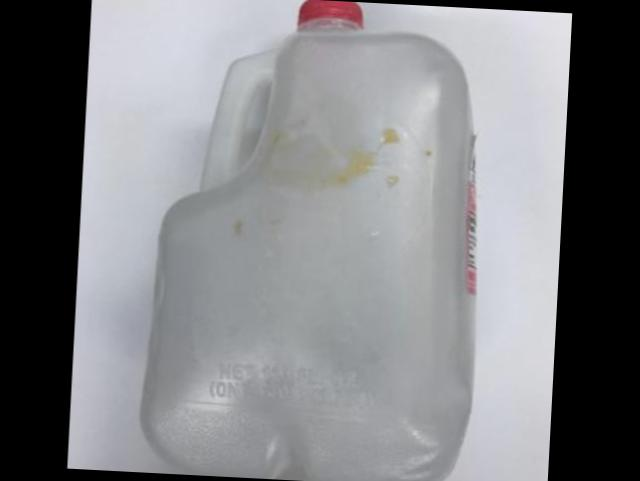plastic: (144, 0, 478, 481)
